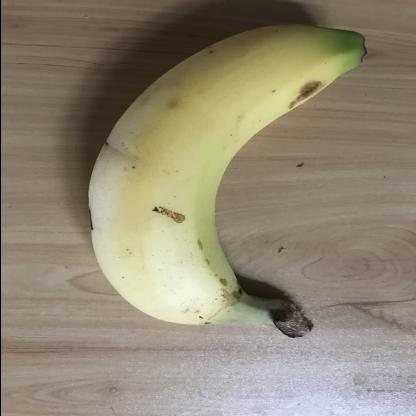banana: (87, 20, 370, 338)
